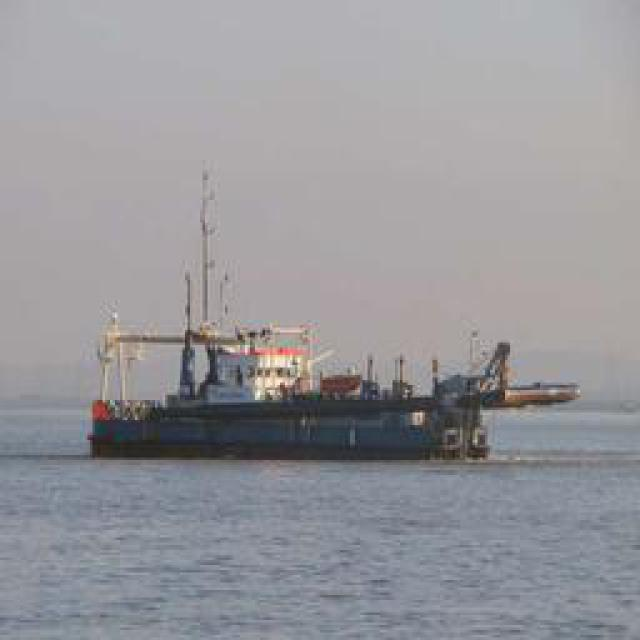Ship: (99, 325, 564, 463)
